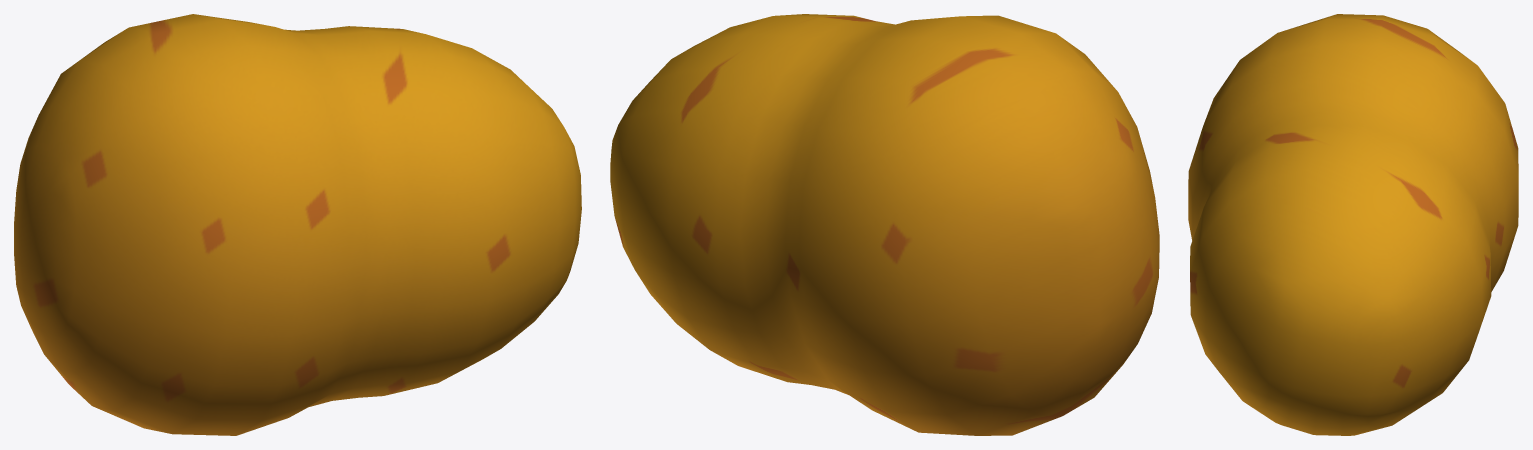
Rendered from Potato_01.fbx.
3 views of the same model, side by side, from view 1: azimuth 30°, elevation 25°; view 2: azimuth 150°, elevation 25°; view 3: azimuth 270°, elevation 25° (orthographic). The views are drawn at different scales.
Visible parts, largest first — view 1: Potato_01; view 2: Potato_01; view 3: Potato_01.
Part boxes in pixels (bbox=[...]): Potato_01: bbox=[14, 14, 581, 435]; Potato_01: bbox=[610, 14, 1159, 435]; Potato_01: bbox=[1188, 14, 1518, 435].
Size of the model in its own units: 60.89 by 43.06 by 39.91.
